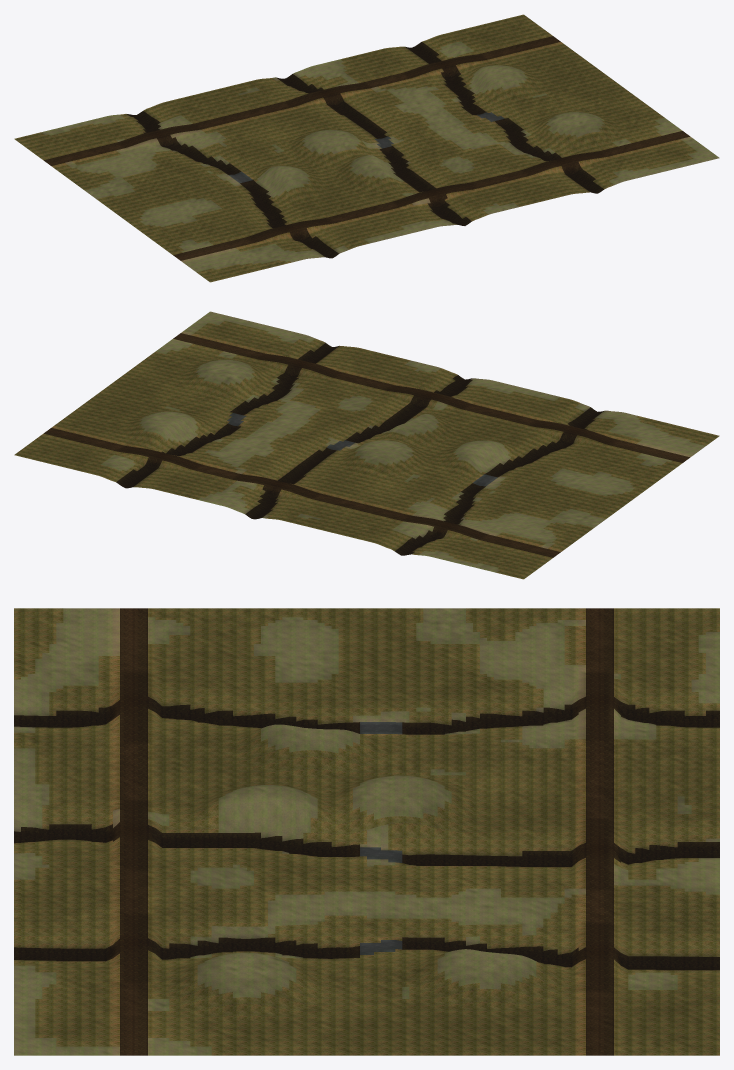
Rendered from terrain.glb.
The picture shows the model from 3 angles, top to bottom: view 1: azimuth 30°, elevation 25°; view 2: azimuth 150°, elevation 25°; view 3: azimuth 270°, elevation 25°; orthographic projection. The views are drawn at different scales.
Visible parts, largest first — view 1: Continuous wide terrain.001; view 2: Continuous wide terrain.001; view 3: Continuous wide terrain.001.
Part boxes in pixels (x1=…): Continuous wide terrain.001: x1=14, y1=14, x2=719, y2=282; Continuous wide terrain.001: x1=14, y1=311, x2=719, y2=579; Continuous wide terrain.001: x1=14, y1=608, x2=719, y2=1055.
Size of the model in its own units: 150 by 4.55 by 100.
4 materials, 4 textured.
